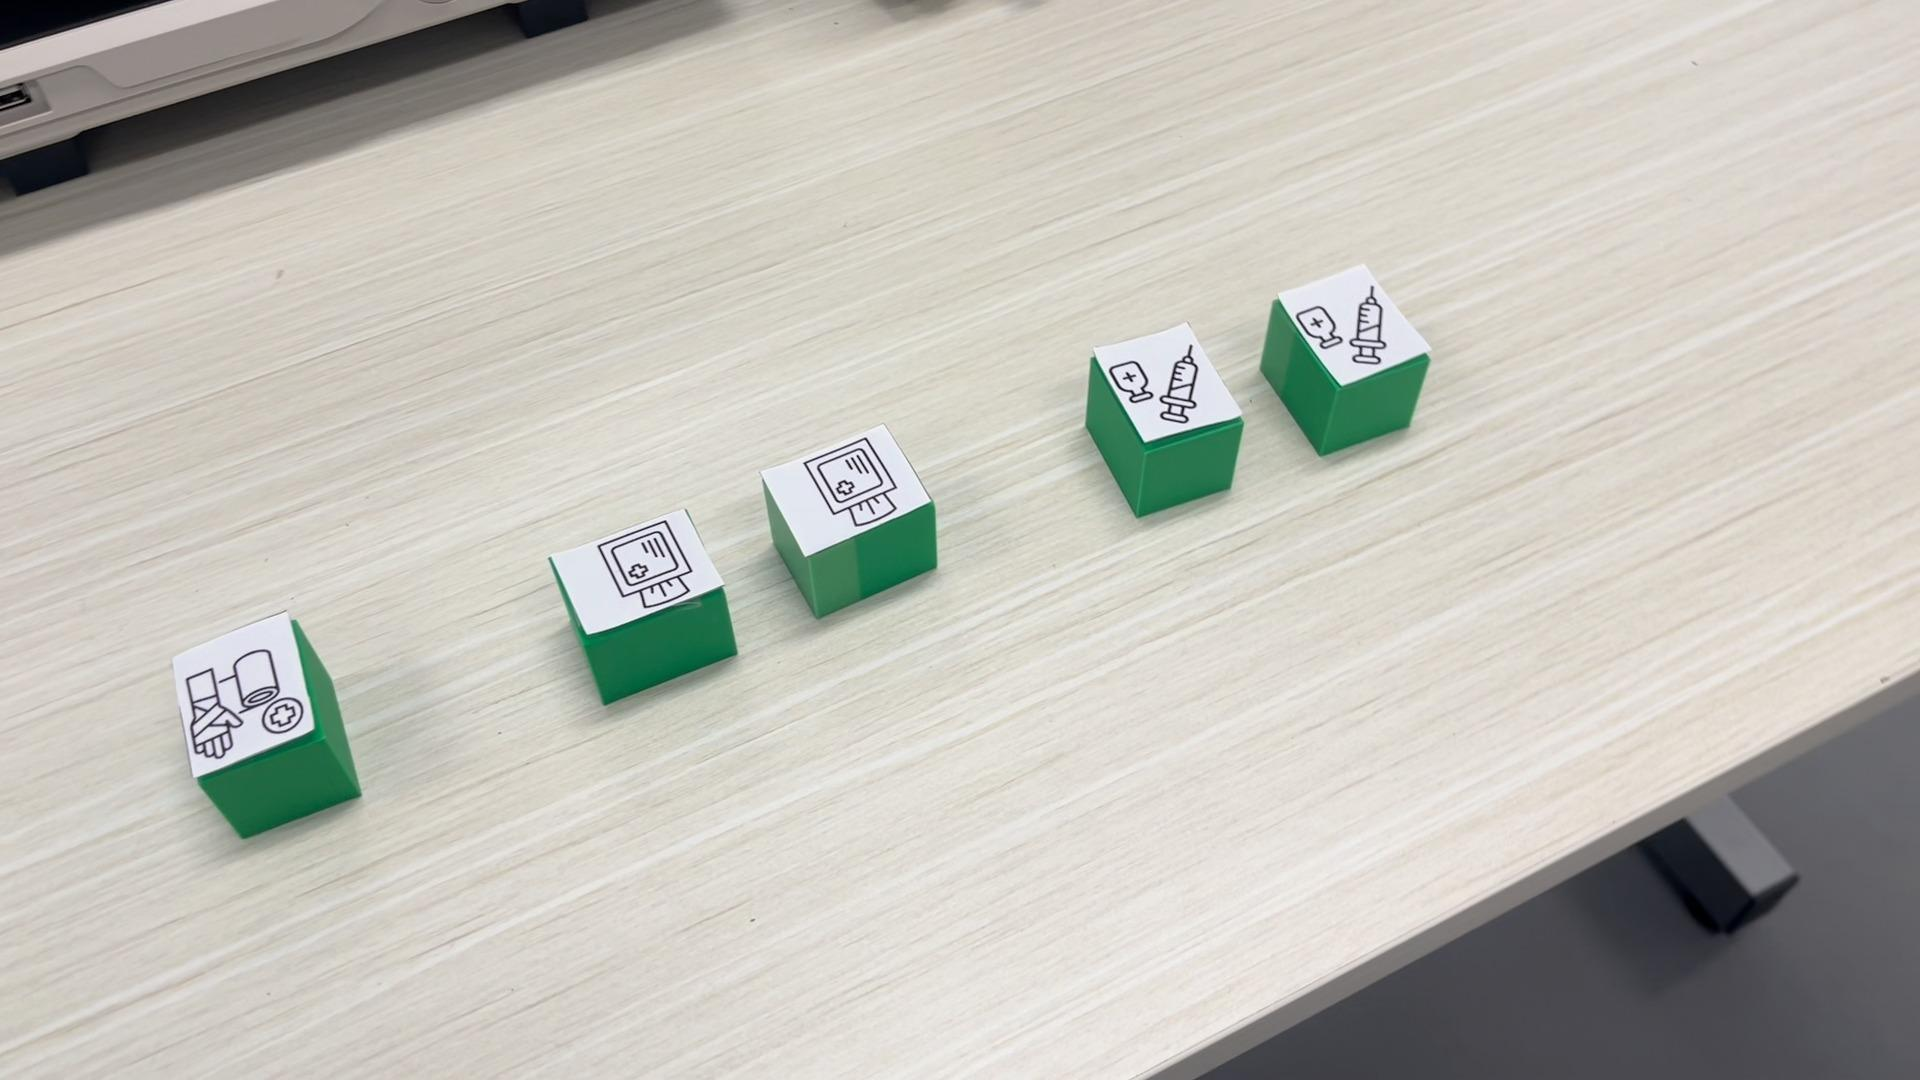Bandages: (169, 609, 363, 837)
Gauze: (545, 506, 737, 704), (760, 421, 939, 617)
antiseptic cream: (1261, 262, 1431, 455), (1081, 322, 1245, 518)
